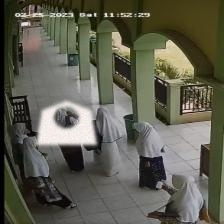Mukena: (36, 101, 96, 144)
